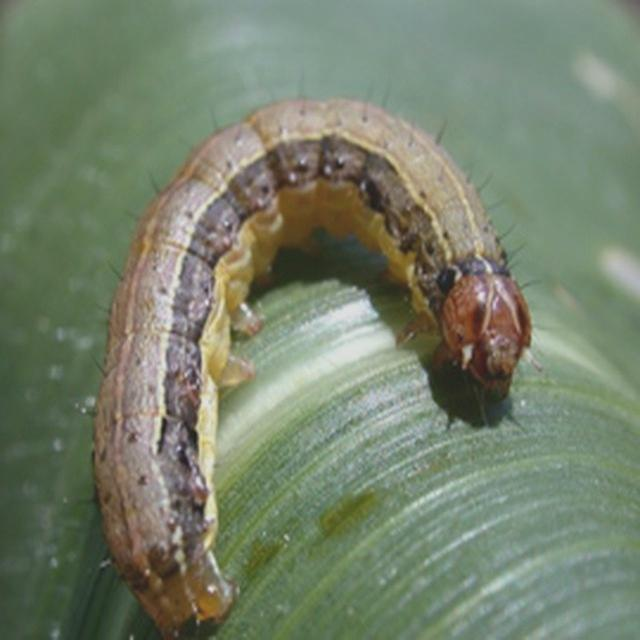gusano_cogollero: (86, 90, 540, 640)
